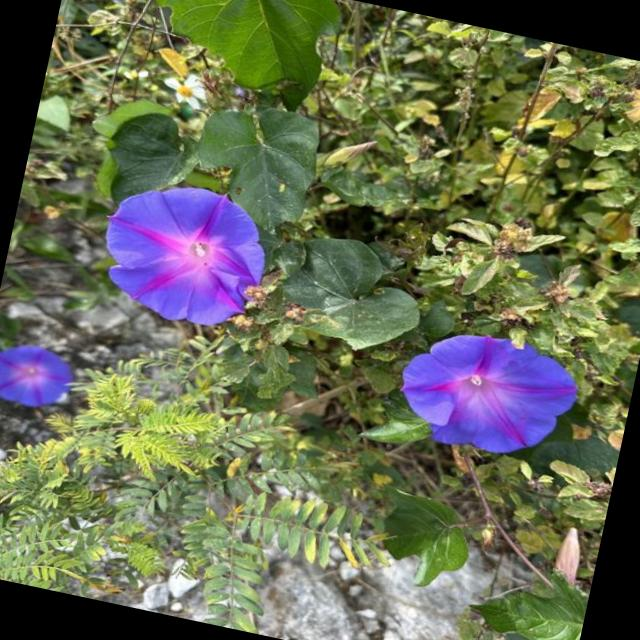ipomoea: (84, 167, 282, 340), (385, 316, 589, 472), (0, 334, 82, 418)
